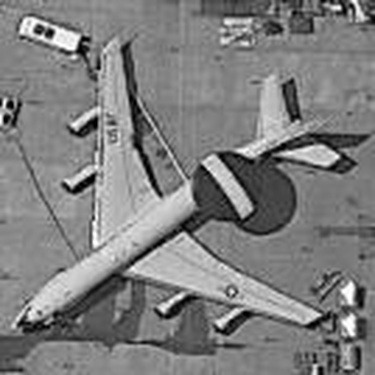airplane: (4, 17, 367, 349)
